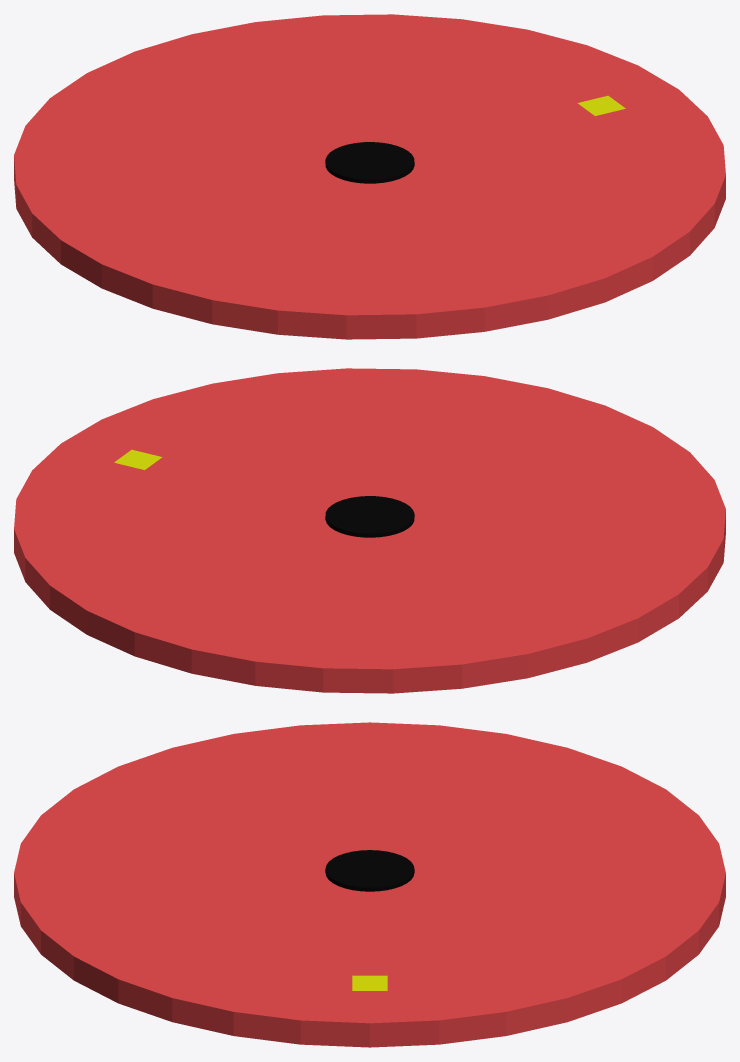
Rendered from record.glb.
The picture shows the model from 3 angles, top to bottom: view 1: azimuth 30°, elevation 25°; view 2: azimuth 150°, elevation 25°; view 3: azimuth 270°, elevation 25°; orthographic projection.
Visible parts, largest first — view 1: Cylinder.001, Cylinder.002, Plane; view 2: Cylinder.001, Cylinder.002, Plane; view 3: Cylinder.001, Cylinder.002, Plane.
Part boxes in pixels (box(x1,y1,x2,y2)): Cylinder.001: box(14, 14, 725, 339); Cylinder.002: box(325, 142, 414, 183); Plane: box(577, 95, 625, 115); Cylinder.001: box(14, 368, 725, 693); Cylinder.002: box(325, 496, 414, 537); Plane: box(114, 449, 162, 469); Cylinder.001: box(14, 722, 725, 1047); Cylinder.002: box(325, 850, 414, 891); Plane: box(352, 975, 387, 990).
Size of what is drawn, in the model's own units: 8 by 0.4 by 8.
